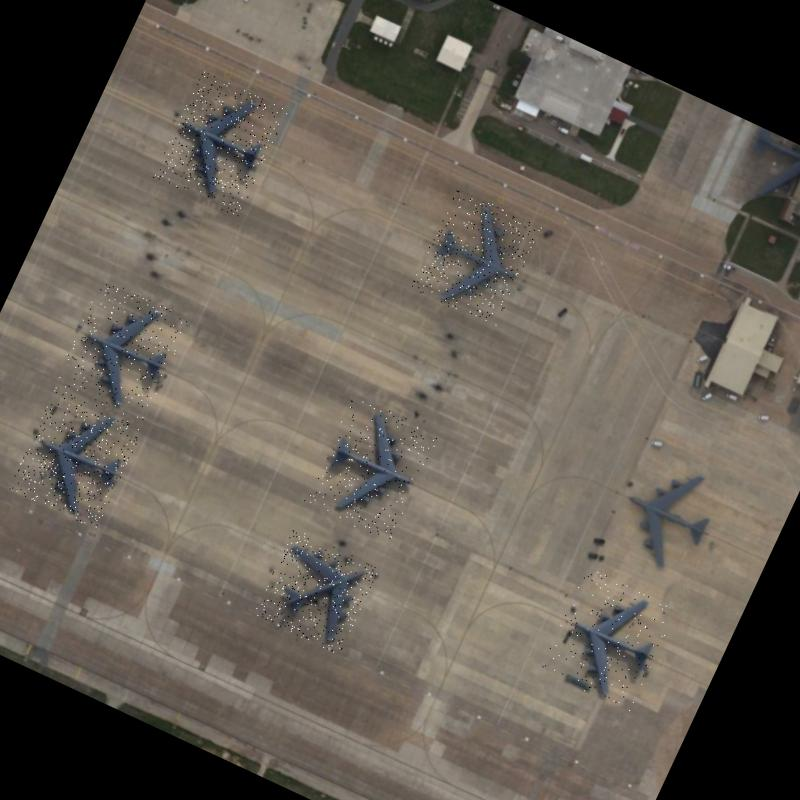A8: (596, 438, 735, 585), (302, 393, 439, 542), (538, 566, 676, 712), (54, 278, 192, 423), (152, 70, 288, 217), (7, 386, 144, 530), (408, 187, 542, 329), (253, 528, 380, 655)
